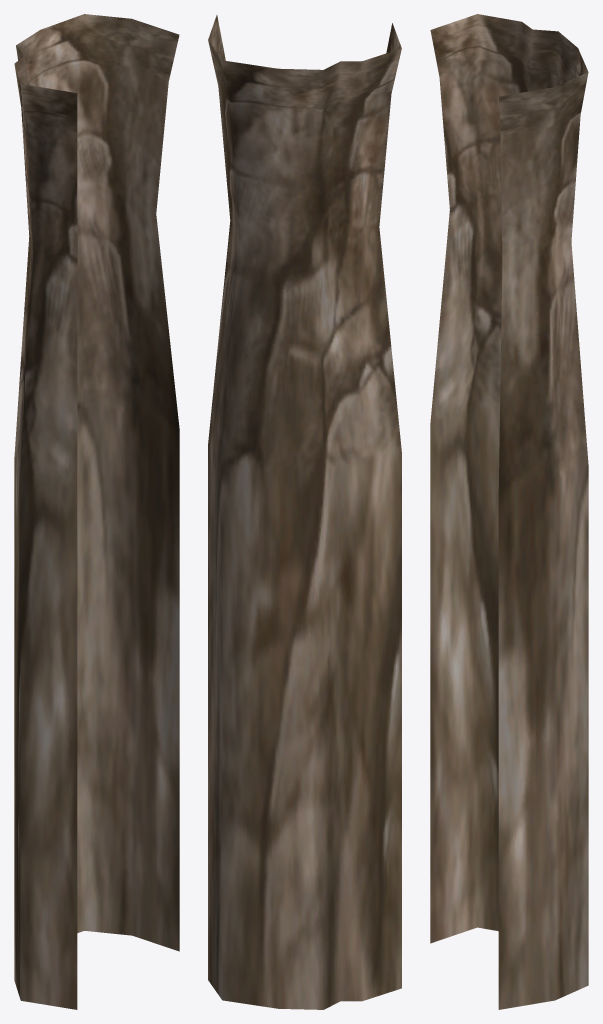
File: OVERHILL_A_01_LINE47.fbx
3 views of the same model, side by side, from view 1: azimuth 30°, elevation 25°; view 2: azimuth 150°, elevation 25°; view 3: azimuth 270°, elevation 25° (orthographic). The views are drawn at different scales.
Visible parts, largest first — view 1: OVERHILL_A_01_LINE47; view 2: OVERHILL_A_01_LINE47; view 3: OVERHILL_A_01_LINE47.
Part boxes in pixels (x1=…): OVERHILL_A_01_LINE47: x1=14, y1=14, x2=179, y2=1009; OVERHILL_A_01_LINE47: x1=208, y1=15, x2=401, y2=1009; OVERHILL_A_01_LINE47: x1=430, y1=14, x2=588, y2=1009.
Size of the model in its own units: 30853 by 159395 by 24998.
Materials: 1 (1 with a texture image).
